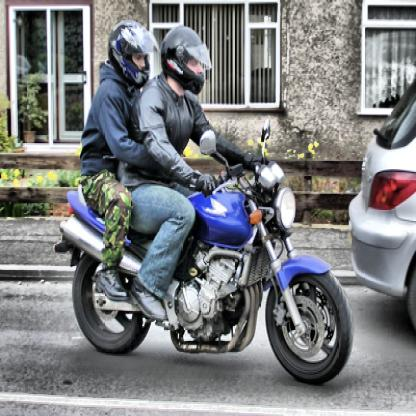wear: (165, 23, 206, 96), (110, 19, 148, 87)
